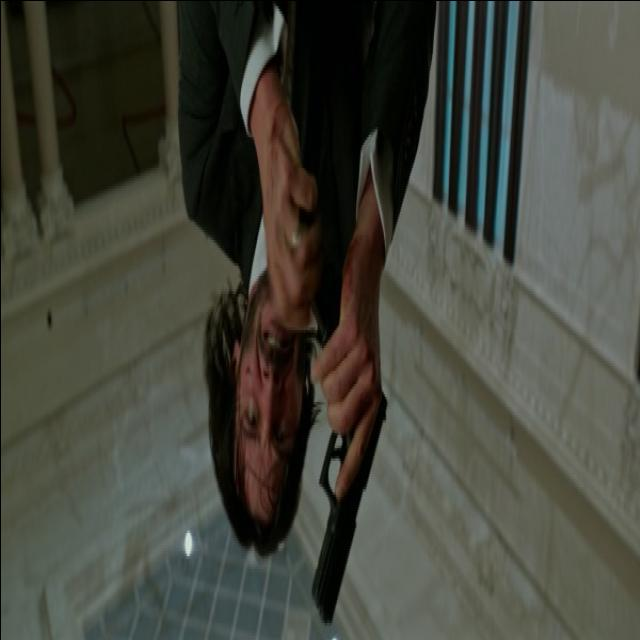weapons: (298, 278, 393, 634)
